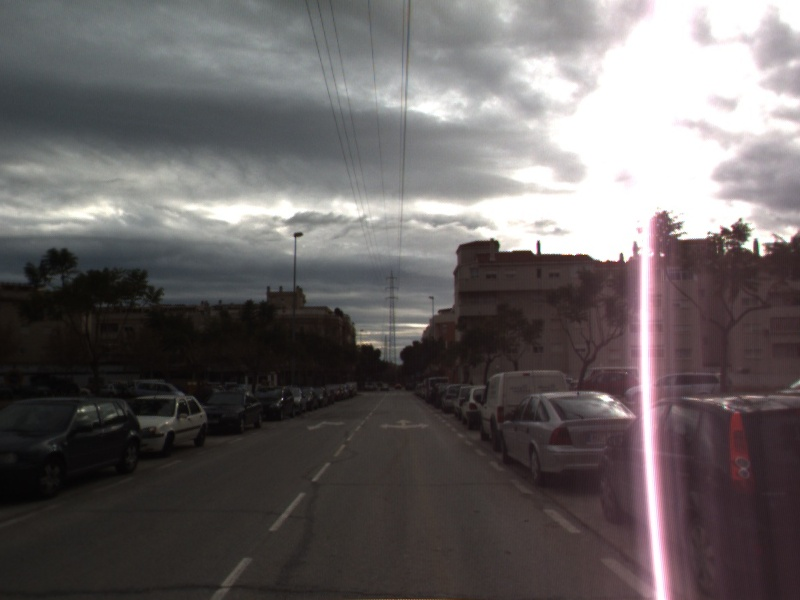STRAIGHT_LEFT_RIGHT: (377, 417, 431, 431)
